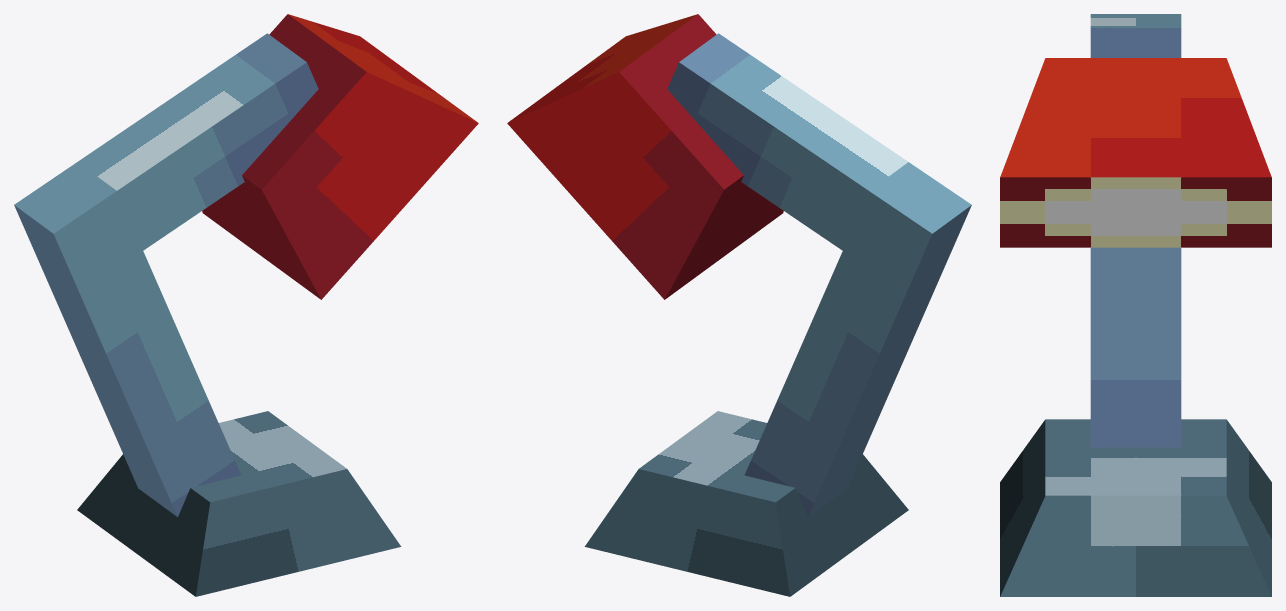
File: Lamp.fbx
The picture shows the model from 3 angles, left to right: view 1: azimuth 30°, elevation 25°; view 2: azimuth 150°, elevation 25°; view 3: azimuth 270°, elevation 25°; orthographic projection. The views are drawn at different scales.
Parts seen in each view (by area): view 1: cuboid_1, cuboid_2, cuboid; view 2: cuboid_1, cuboid_2, cuboid; view 3: cuboid_2, cuboid, cuboid_1.
Boxes of the visible parts, x1,y1,x2,y2 form: cuboid_1: [14, 33, 318, 516]; cuboid_2: [202, 14, 478, 299]; cuboid: [77, 411, 401, 596]; cuboid_1: [667, 33, 971, 516]; cuboid_2: [507, 14, 783, 299]; cuboid: [584, 411, 908, 596]; cuboid_2: [1000, 58, 1271, 247]; cuboid: [1000, 419, 1271, 596]; cuboid_1: [1090, 14, 1181, 447].
Size of the model in its own units: 70.34 by 81.71 by 37.5.
1 material, 1 textured.
